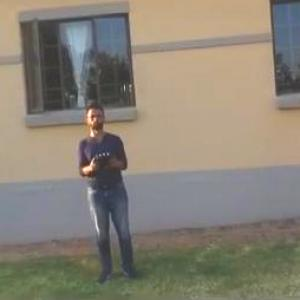follow: (73, 94, 141, 290)
